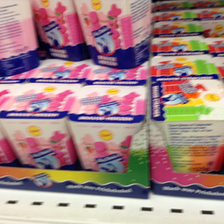candy: (63, 83, 144, 187), (149, 79, 220, 177), (3, 84, 78, 174), (74, 2, 154, 66)
